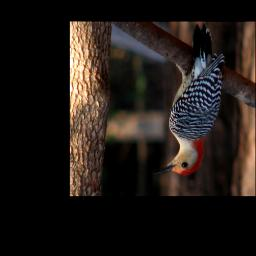Woodpecker: (150, 27, 226, 177)
